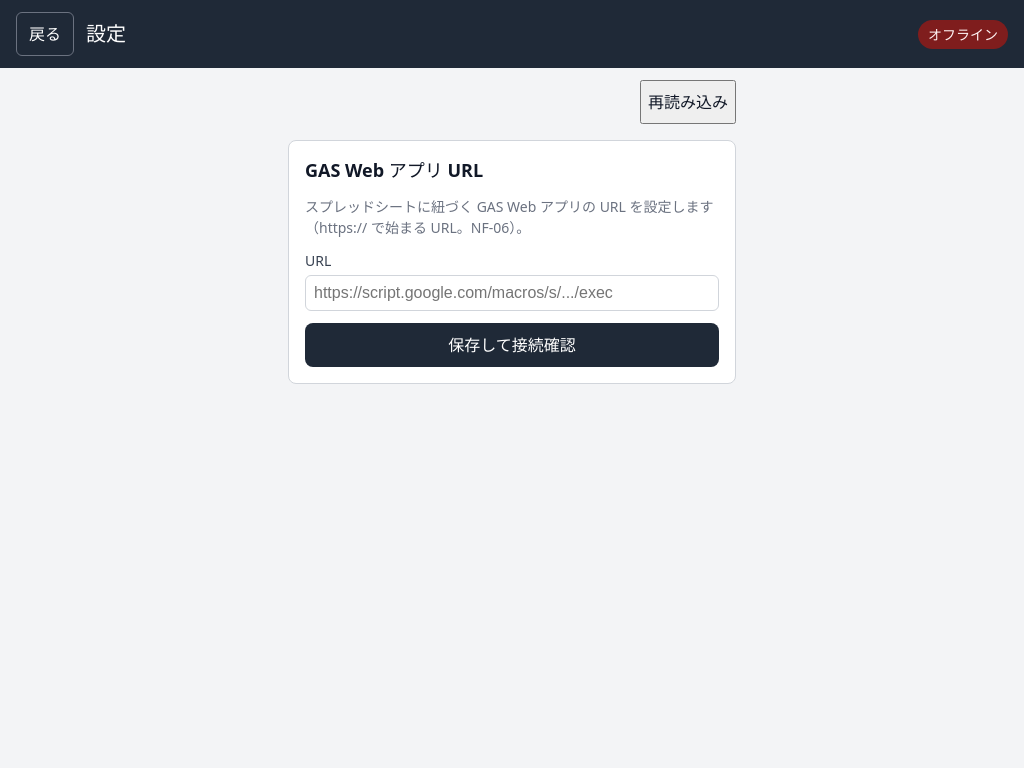
Test: GAS URL未設定（初回セットアップの最初のステップ） › 保存すると接続確認（ping）を行い、結果を表示する。成功後は端末登録欄に進む
Type "https://script.google.com/macros/s/FAKE/exec" into the field labelled "URL" at [512, 293], box [305,275,719,311]
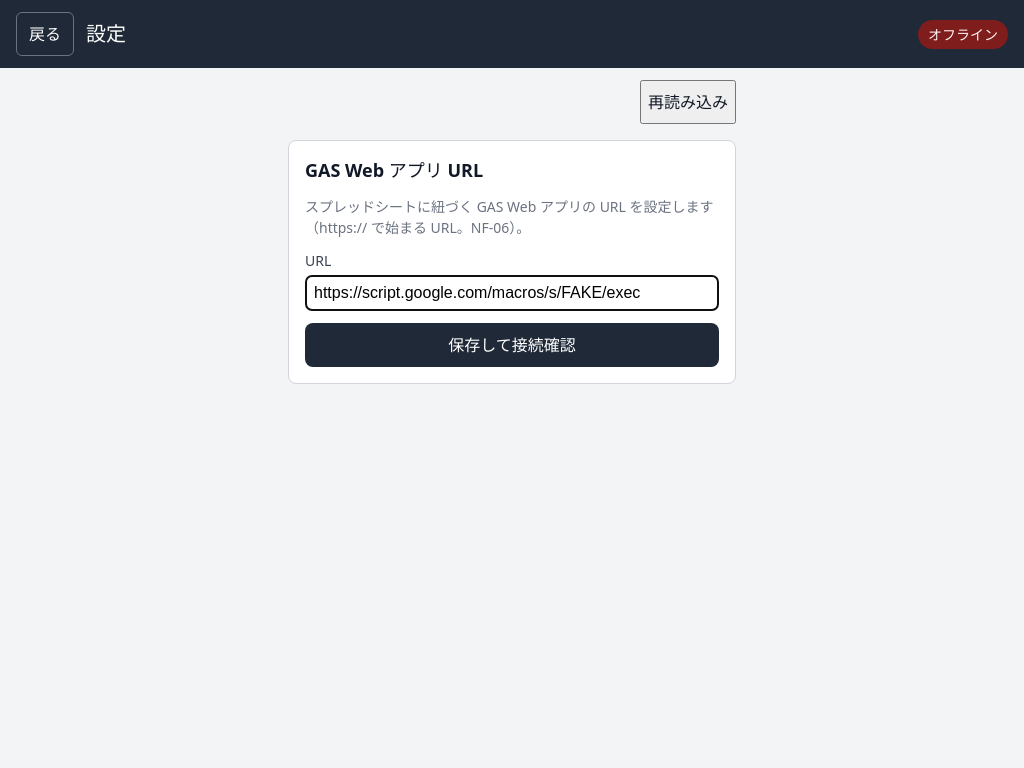
Click the button "保存して接続確認" at [512, 345], box [305,323,719,367]
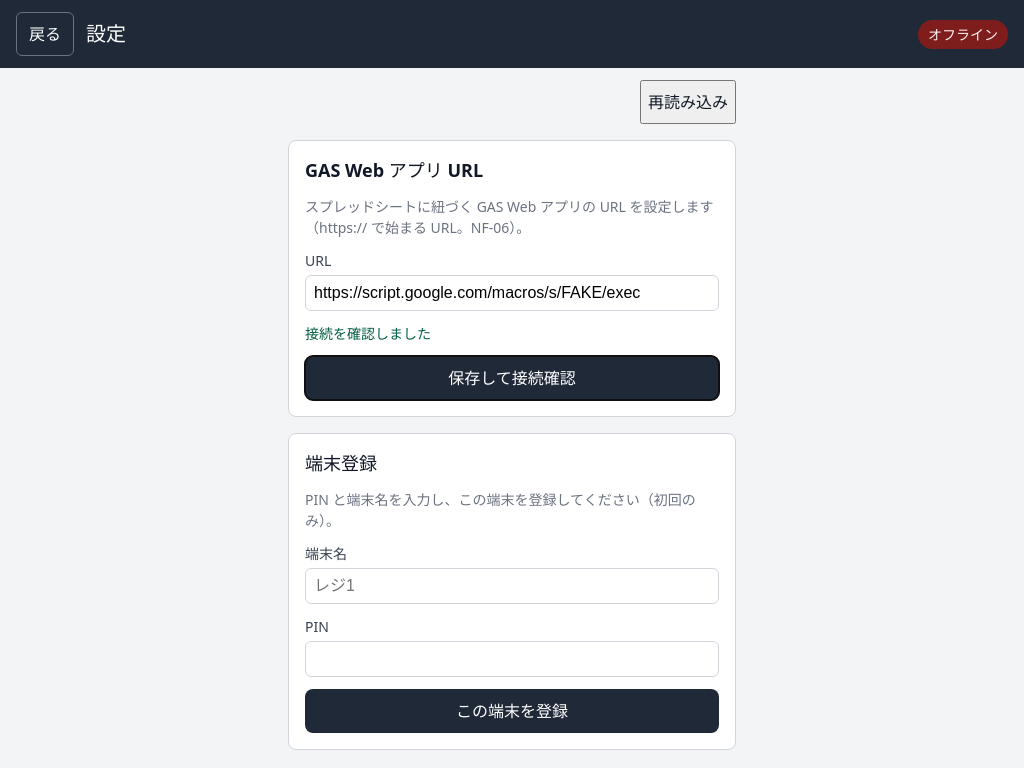
Now the message reads "接続を確認しました", box [305,324,431,343]
Now the field labelled "端末名" is shown, box [305,568,719,604]
